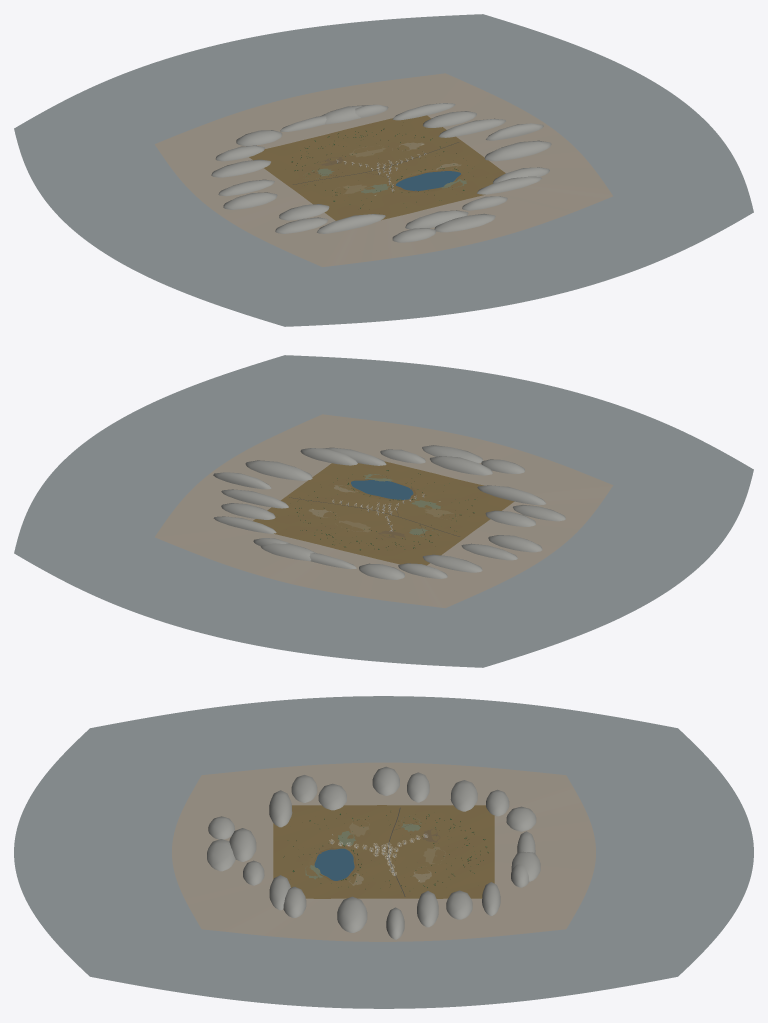
Rendered from ugmrt-facility-web-safe-v1.glb.
3 renders of one model, top to bottom at view 1: azimuth 30°, elevation 25°; view 2: azimuth 150°, elevation 25°; view 3: azimuth 270°, elevation 25°, orthographic. The views are drawn at different scales.
Visible parts, largest first — view 1: UGMRT_Horizon_Band_Far, UGMRT_Horizon_Band_Near, UGMRT_Open_Field_Terrain, UGMRT_Lake, UGMRT_Distant_Hill_21, UGMRT_Distant_Hill_14, UGMRT_Distant_Hill_17, UGMRT_Distant_Hill_01, UGMRT_Distant_Hill_16, UGMRT_Distant_Hill_09, UGMRT_Distant_Hill_11, UGMRT_Distant_Hill_19 (+7 smaller); view 2: UGMRT_Horizon_Band_Far, UGMRT_Horizon_Band_Near, UGMRT_Open_Field_Terrain, UGMRT_Lake, UGMRT_Distant_Hill_21, UGMRT_Distant_Hill_16, UGMRT_Distant_Hill_14, UGMRT_Distant_Hill_01, UGMRT_Distant_Hill_09, UGMRT_Distant_Hill_11, UGMRT_Distant_Hill_05, UGMRT_Distant_Hill_20 (+8 smaller); view 3: UGMRT_Horizon_Band_Far, UGMRT_Horizon_Band_Near, UGMRT_Open_Field_Terrain, UGMRT_Lake, UGMRT_Distant_Hill_21, UGMRT_Distant_Hill_17, UGMRT_Distant_Hill_16, UGMRT_Distant_Hill_09, UGMRT_Distant_Hill_14, UGMRT_Distant_Hill_01, UGMRT_Distant_Hill_11, UGMRT_Distant_Hill_02 (+7 smaller).
Boxes of the visible parts, x1,y1,x2,y2 form: UGMRT_Horizon_Band_Far: (14, 14, 753, 326); UGMRT_Horizon_Band_Near: (155, 73, 612, 267); UGMRT_Open_Field_Terrain: (249, 115, 505, 220); UGMRT_Lake: (396, 171, 460, 190); UGMRT_Distant_Hill_21: (484, 140, 551, 161); UGMRT_Distant_Hill_14: (317, 214, 385, 233); UGMRT_Distant_Hill_17: (434, 213, 495, 232); UGMRT_Distant_Hill_01: (438, 118, 505, 137); UGMRT_Distant_Hill_16: (405, 210, 468, 229); UGMRT_Distant_Hill_09: (211, 159, 270, 177); UGMRT_Distant_Hill_11: (223, 192, 277, 209); UGMRT_Distant_Hill_19: (477, 176, 541, 194); UGMRT_Horizon_Band_Far: (14, 355, 753, 667); UGMRT_Horizon_Band_Near: (155, 414, 613, 608); UGMRT_Open_Field_Terrain: (253, 461, 514, 565); UGMRT_Lake: (351, 480, 413, 499); UGMRT_Distant_Hill_21: (245, 460, 312, 480); UGMRT_Distant_Hill_16: (430, 456, 492, 475); UGMRT_Distant_Hill_14: (477, 485, 546, 505); UGMRT_Distant_Hill_01: (221, 489, 288, 508); UGMRT_Distant_Hill_09: (423, 554, 482, 572); UGMRT_Distant_Hill_11: (488, 535, 542, 552); UGMRT_Distant_Hill_05: (260, 543, 316, 561); UGMRT_Distant_Hill_20: (300, 448, 357, 465); UGMRT_Horizon_Band_Far: (14, 696, 753, 1008); UGMRT_Horizon_Band_Near: (172, 762, 595, 941); UGMRT_Open_Field_Terrain: (273, 805, 494, 898); UGMRT_Lake: (314, 848, 354, 880); UGMRT_Distant_Hill_21: (337, 896, 367, 932); UGMRT_Distant_Hill_17: (207, 839, 235, 871); UGMRT_Distant_Hill_16: (229, 828, 256, 861); UGMRT_Distant_Hill_09: (450, 780, 477, 811); UGMRT_Distant_Hill_14: (269, 790, 292, 827); UGMRT_Distant_Hill_01: (417, 891, 438, 927); UGMRT_Distant_Hill_11: (372, 766, 399, 795); UGMRT_Distant_Hill_02: (446, 890, 472, 919).
Size of the model in its own units: 6560 by 224 by 6560.
